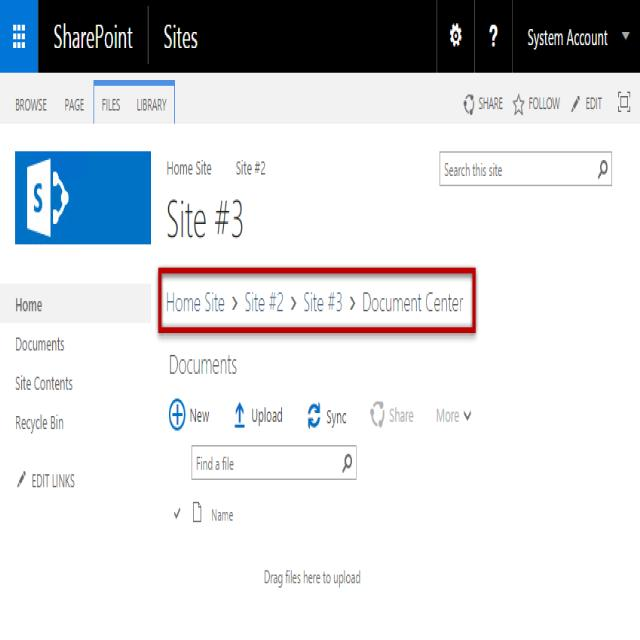Breadcrumb: (165, 282, 468, 318)
buttons: (528, 29, 636, 49), (16, 467, 78, 497), (235, 399, 282, 431), (15, 333, 70, 356), (168, 400, 209, 430), (17, 374, 75, 395), (374, 402, 416, 429), (483, 16, 505, 64), (511, 93, 563, 113), (446, 8, 466, 60), (15, 413, 66, 432), (16, 89, 48, 117), (310, 404, 348, 426), (467, 94, 503, 116), (136, 90, 168, 114), (14, 293, 46, 317), (575, 95, 606, 114), (63, 92, 84, 114), (102, 92, 120, 117)
dropdown: (434, 400, 474, 426)
input-fields: (192, 446, 358, 482), (442, 150, 611, 185)
text: (167, 196, 245, 242), (264, 568, 363, 590), (169, 349, 238, 379)
